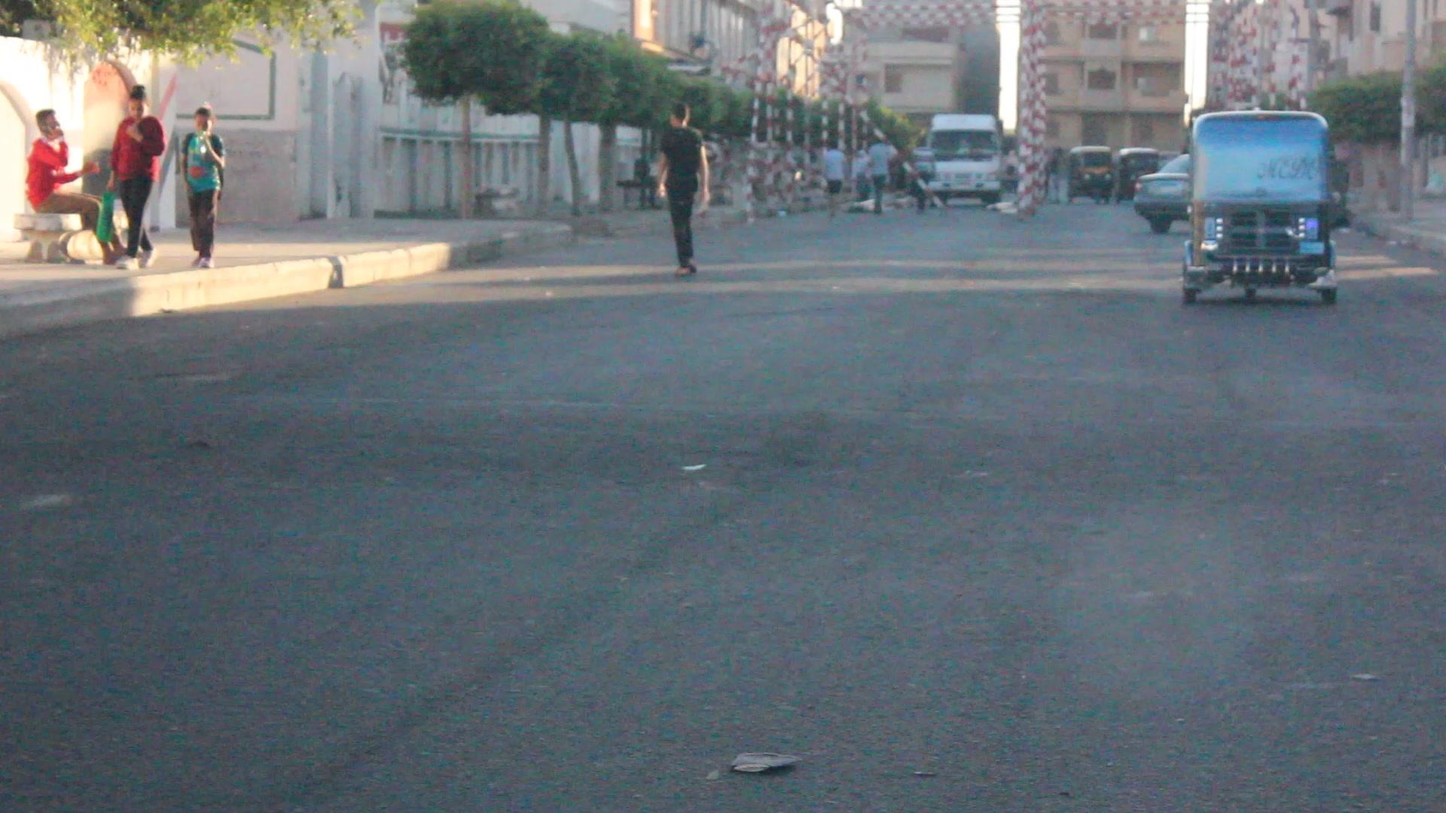Bump: (0, 382, 1446, 512)
